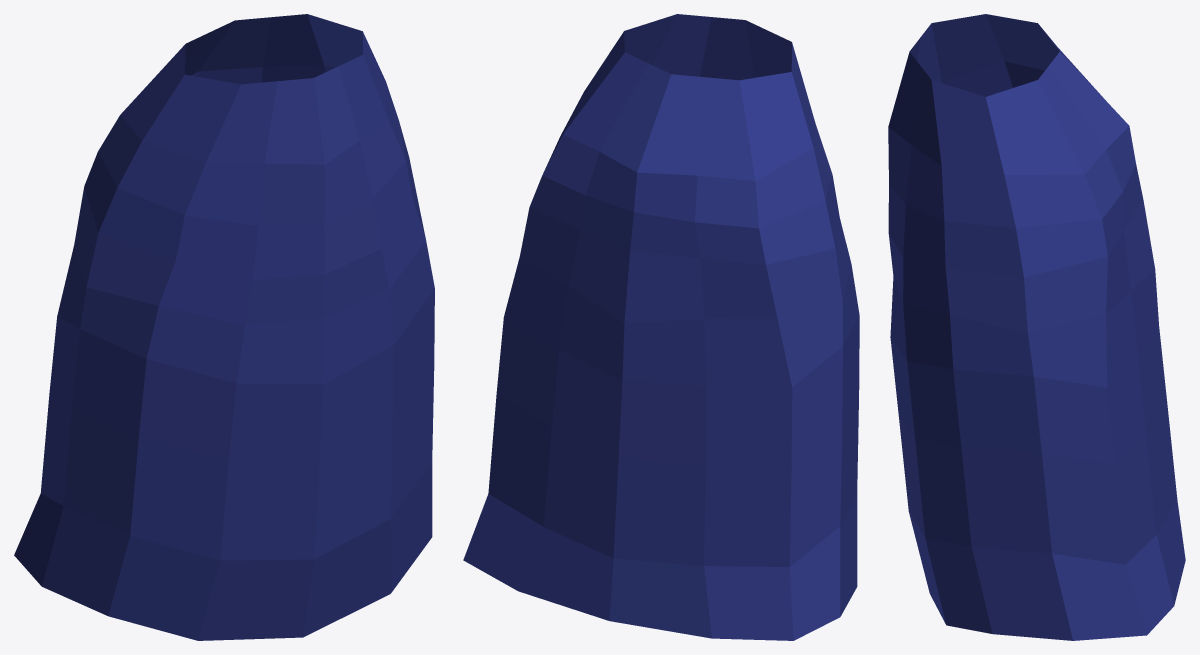
File: sailorSkirt.fbx
3 views of the same model, side by side, from view 1: azimuth 30°, elevation 25°; view 2: azimuth 150°, elevation 25°; view 3: azimuth 270°, elevation 25° (orthographic). The views are drawn at different scales.
Visible parts, largest first — view 1: JeansSkirt.001; view 2: JeansSkirt.001; view 3: JeansSkirt.001.
Part boxes in pixels (left/top/right/bottom): JeansSkirt.001: left=14, top=14, right=434, bottom=640; JeansSkirt.001: left=463, top=14, right=859, bottom=640; JeansSkirt.001: left=888, top=14, right=1185, bottom=640.
Bounding box in the file's own units: 102 × 148 × 73.47.
